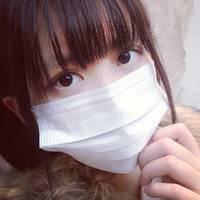OK: (38, 28, 179, 169)
